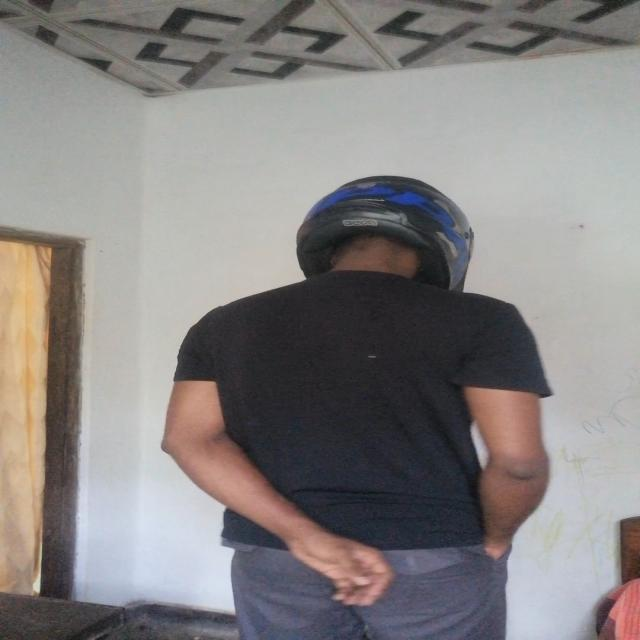Helmet_Wearer: (239, 152, 529, 311)
Person: (166, 156, 567, 640)
